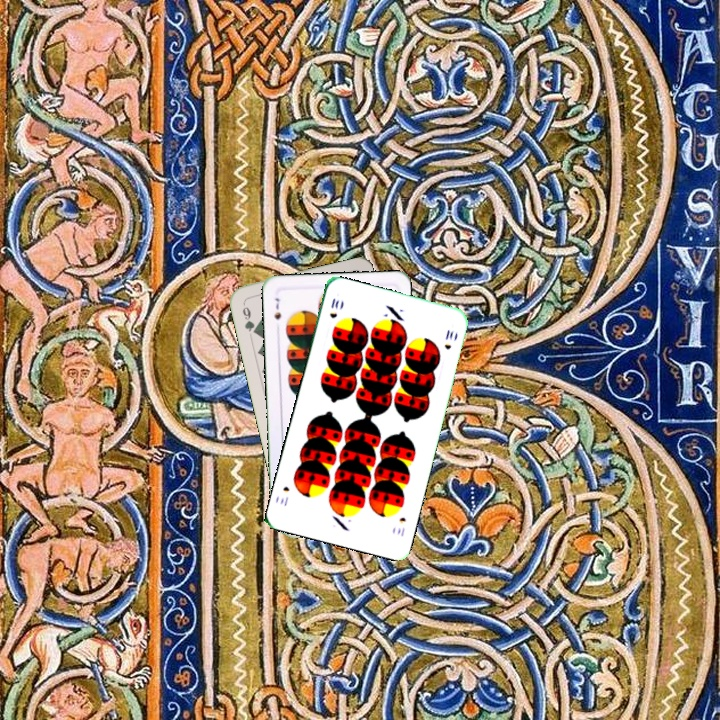G9: (238, 303, 259, 337)
S10: (326, 294, 342, 321), (393, 513, 408, 539)
S7: (270, 294, 283, 322)
